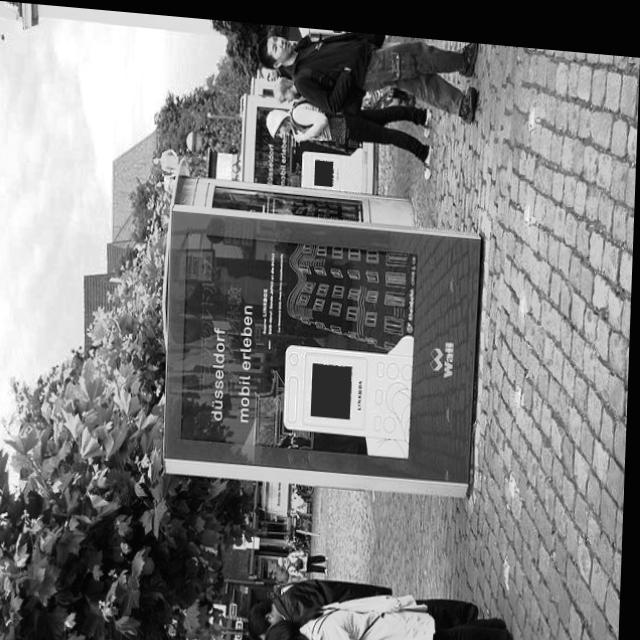qr_code: (314, 357, 354, 412), (315, 153, 334, 180)
